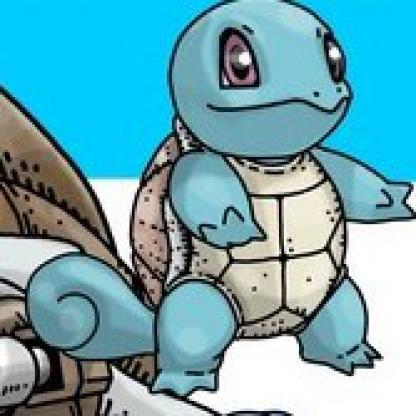Squirtle: (29, 1, 415, 402)
